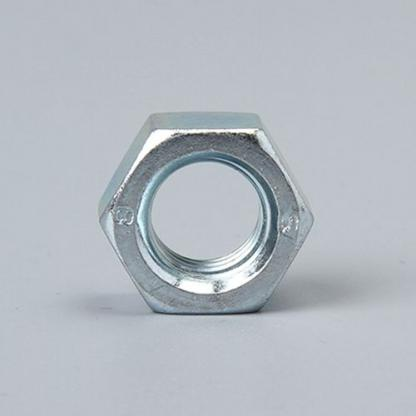FOD: (90, 105, 317, 324)
